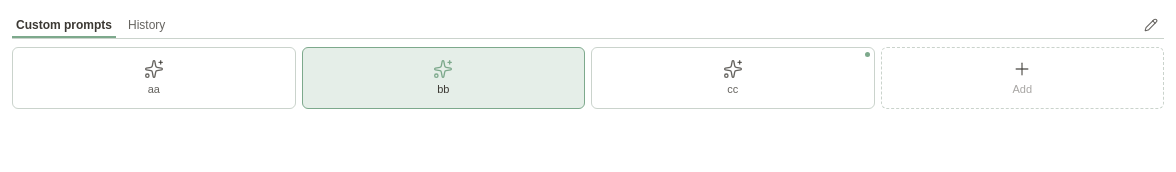
Test: AskAiTileGrid › history tab empty state
Click the tab "History".
click(147, 25)  # box [124,12,169,38]
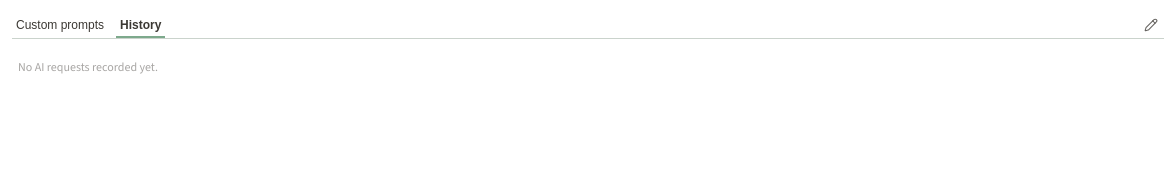
Result: the text "No AI requests recorded yet." is shown at [18,59,158,75]
